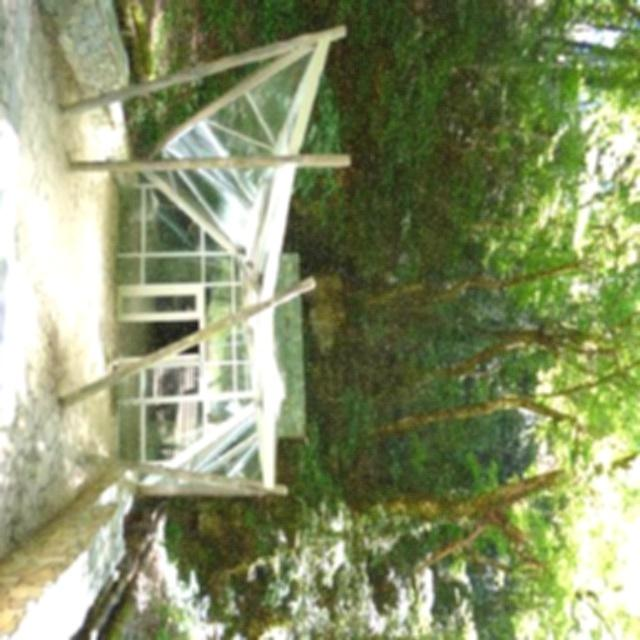stair: (147, 366, 210, 457)
